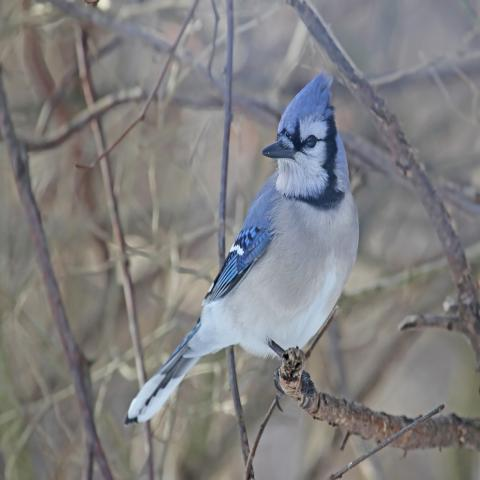bird: (123, 70, 360, 428)
